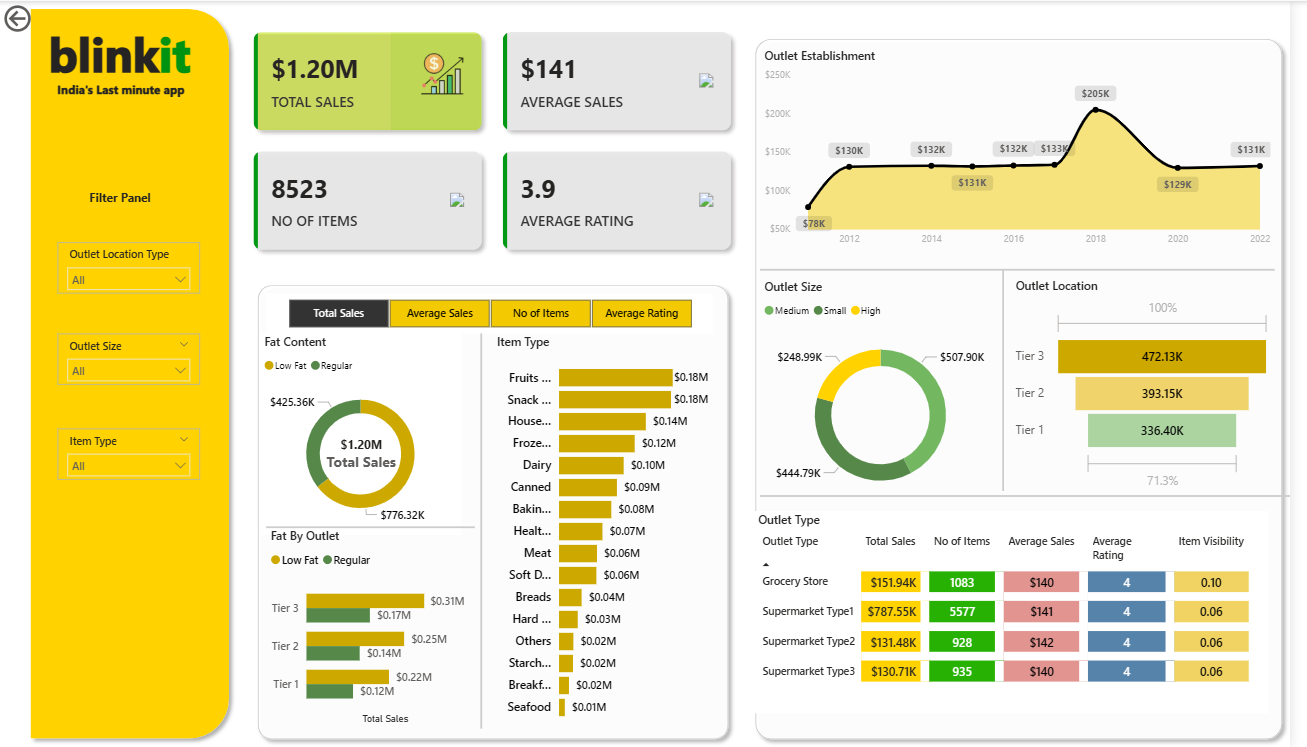

Layout of this report page (visuals, bound fields, positions):
{"tool":"powerbi","page":{"name":"Page 1","canvas":[1470,850],"ordinal":0},"visuals":[{"type":"shape","box":[25.2,0,244.3,849.4],"z":0},{"type":"textbox","box":[296.3,756.4,244.3,93],"z":1000},{"type":"textbox","box":[44.1,18.9,184.4,104],"z":2000},{"type":"textbox","box":[52,86.7,170.2,36.2],"z":3000},{"type":"cardVisual","fields":{"Data":["BlinkIT Grocery Data.Total Sales","BlinkIT Grocery Data.Average Sales","BlinkIT Grocery Data.No of Items","BlinkIT Grocery Data.Average Rating"]},"box":[272,18.5,579.7,282],"z":4000},{"type":"shape","box":[284.9,314.8,554,535.5],"z":5000},{"type":"donutChart","title":"Fat Content","fields":{"Y":["BlinkIT Grocery Data.Total Sales"],"Category":["BlinkIT Grocery Data.Item Fat Content"]},"box":[296.2,378.9,229.3,229.3],"z":6000},{"type":"slicer","fields":{"Values":["Matrix.Matrix"]},"box":[303.4,333.3,508.5,45.6],"z":7000},{"type":"cardVisual","fields":{"Data":["BlinkIT Grocery Data.Total Sales"]},"box":[346.1,468.6,131,94],"z":8000},{"type":"clusteredBarChart","title":"Fat By Outlet","fields":{"Y":["BlinkIT Grocery Data.Total Sales"],"Category":["BlinkIT Grocery Data.Outlet Location Type"],"Series":["BlinkIT Grocery Data.Item Fat Content"]},"box":[303.4,599.6,230.7,229.3],"z":9000},{"type":"shape","box":[303.4,581.1,237.9,37],"z":10000},{"type":"shape","box":[534.1,378.9,28.5,450.1],"z":11000},{"type":"barChart","title":"Item Type","fields":{"Y":["BlinkIT Grocery Data.Total Sales"],"Category":["BlinkIT Grocery Data.Item Type"]},"box":[561.2,378.9,250.7,451.5],"z":12000},{"type":"shape","box":[851.7,34.2,618.1,816.1],"z":13000},{"type":"lineChart","title":"Outlet Establishment","fields":{"Y":["BlinkIT Grocery Data.Total Sales"],"Category":["BlinkIT Grocery Data.Outlet Establishment Year"]},"box":[866,52.7,586.8,235],"z":14000},{"type":"shape","box":[866,287.7,586.8,37],"z":15000},{"type":"donutChart","title":"Outlet Size","fields":{"Y":["BlinkIT Grocery Data.Total Sales"],"Category":["BlinkIT Grocery Data.Outlet Size"]},"box":[866,316.2,274.9,266.3],"z":16000},{"type":"shape","box":[1126.6,306.2,32.8,252.1],"z":17000},{"type":"funnel","title":"Outlet Location","fields":{"Y":["Sum(BlinkIT Grocery Data.Sales)"],"Category":["BlinkIT Grocery Data.Outlet Location Type"]},"box":[1152.2,314.8,300.5,247.8],"z":18000},{"type":"shape","box":[866,545.5,603.9,37],"z":19000},{"type":"pivotTable","title":"Outlet Type","fields":{"Rows":["BlinkIT Grocery Data.Outlet Type"],"Values":["BlinkIT Grocery Data.Total Sales","BlinkIT Grocery Data.No of Items","BlinkIT Grocery Data.Average Sales","BlinkIT Grocery Data.Average Rating","Avg(BlinkIT Grocery Data.Item Visibility)"]},"box":[858.8,581.1,586.8,230.7],"z":20000},{"type":"actionButton","box":[0,0,100,40],"z":21000},{"type":"slicer","fields":{"Values":["BlinkIT Grocery Data.Outlet Size"]},"box":[65.5,378.9,162.4,58.4],"z":22000},{"type":"slicer","fields":{"Values":["BlinkIT Grocery Data.Outlet Location Type"]},"box":[65.5,274.9,162.4,58.4],"z":23000},{"type":"slicer","fields":{"Values":["BlinkIT Grocery Data.Item Type"]},"box":[65.5,487.1,162.4,58.4],"z":24000},{"type":"textbox","box":[88.3,209.4,96.9,35.6],"z":25000}]}

Visuals, with their boxes on the page's 1470x850 design canvas (x1, y1, x2, y2). These are canvas units, not pixel positions in the 1307x747 screenshot, which may show the page scaled, cropped or inside an application window:
shape: bbox=(25, 0, 270, 849)
textbox: bbox=(296, 756, 541, 849)
textbox: bbox=(44, 19, 228, 123)
textbox: bbox=(52, 87, 222, 123)
cardVisual - BlinkIT Grocery Data.Total Sales x BlinkIT Grocery Data.Average Sales: bbox=(272, 18, 852, 300)
shape: bbox=(285, 315, 839, 850)
"Fat Content" donutChart: bbox=(296, 379, 526, 608)
slicer - Matrix.Matrix: bbox=(303, 333, 812, 379)
cardVisual - BlinkIT Grocery Data.Total Sales: bbox=(346, 469, 477, 563)
"Fat By Outlet" clusteredBarChart: bbox=(303, 600, 534, 829)
shape: bbox=(303, 581, 541, 618)
shape: bbox=(534, 379, 563, 829)
"Item Type" barChart: bbox=(561, 379, 812, 830)
shape: bbox=(852, 34, 1470, 850)
"Outlet Establishment" lineChart: bbox=(866, 53, 1453, 288)
shape: bbox=(866, 288, 1453, 325)
"Outlet Size" donutChart: bbox=(866, 316, 1141, 582)
shape: bbox=(1127, 306, 1159, 558)
"Outlet Location" funnel: bbox=(1152, 315, 1453, 563)
shape: bbox=(866, 546, 1470, 582)
"Outlet Type" pivotTable: bbox=(859, 581, 1446, 812)
actionButton: bbox=(0, 0, 100, 40)
slicer - BlinkIT Grocery Data.Outlet Size: bbox=(66, 379, 228, 437)
slicer - BlinkIT Grocery Data.Outlet Location Type: bbox=(66, 275, 228, 333)
slicer - BlinkIT Grocery Data.Item Type: bbox=(66, 487, 228, 546)
textbox: bbox=(88, 209, 185, 245)
